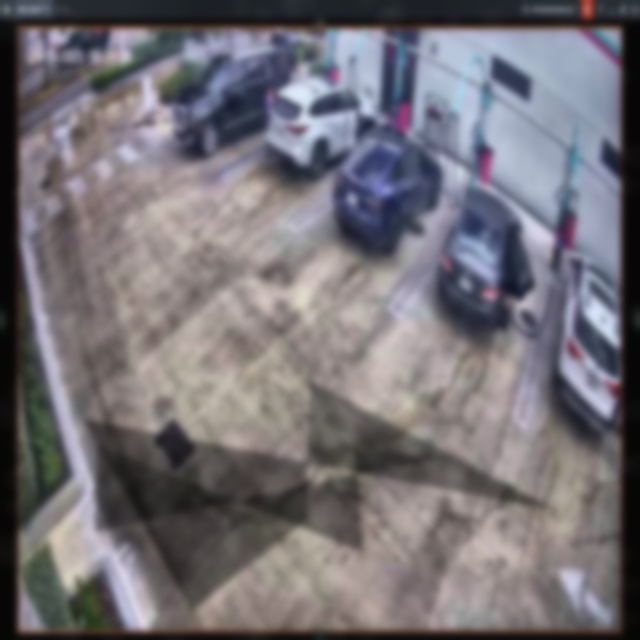Car: (170, 49, 298, 153), (439, 188, 532, 329), (333, 128, 444, 244), (268, 75, 377, 176)
